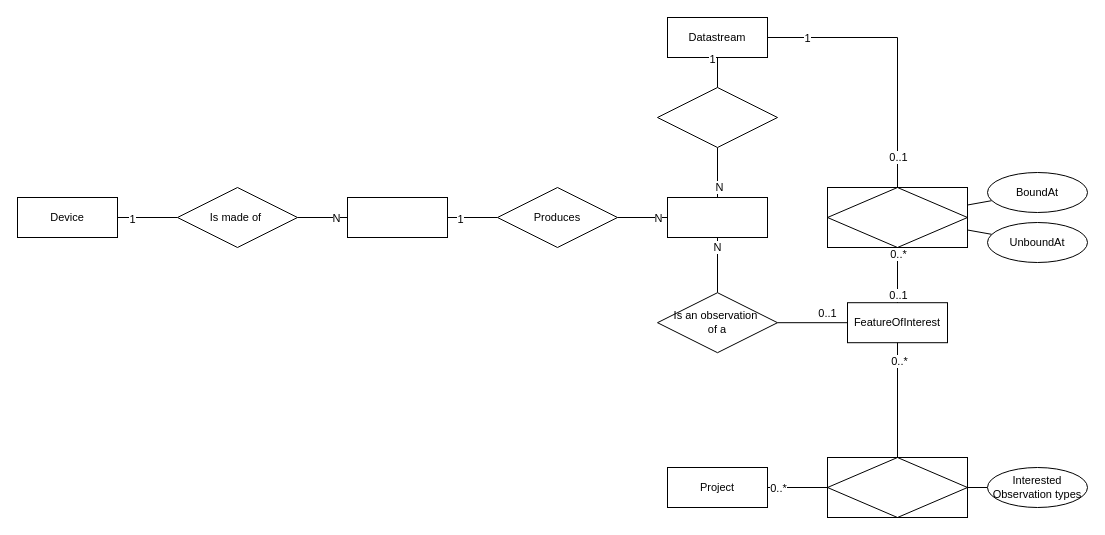
Some shapes in this 1105 by 535 pixel diagram are drawn without their labels. The centre of each missing label's shape, as x and y in pixels:
"Associated to a" goes at point (717, 117).
"FoIDatastreamBinding" goes at point (897, 217).
"Measurement" goes at point (717, 217).
"ProjectFeaturesOfInterest" goes at point (897, 487).
"Sensor" goes at point (397, 217).
